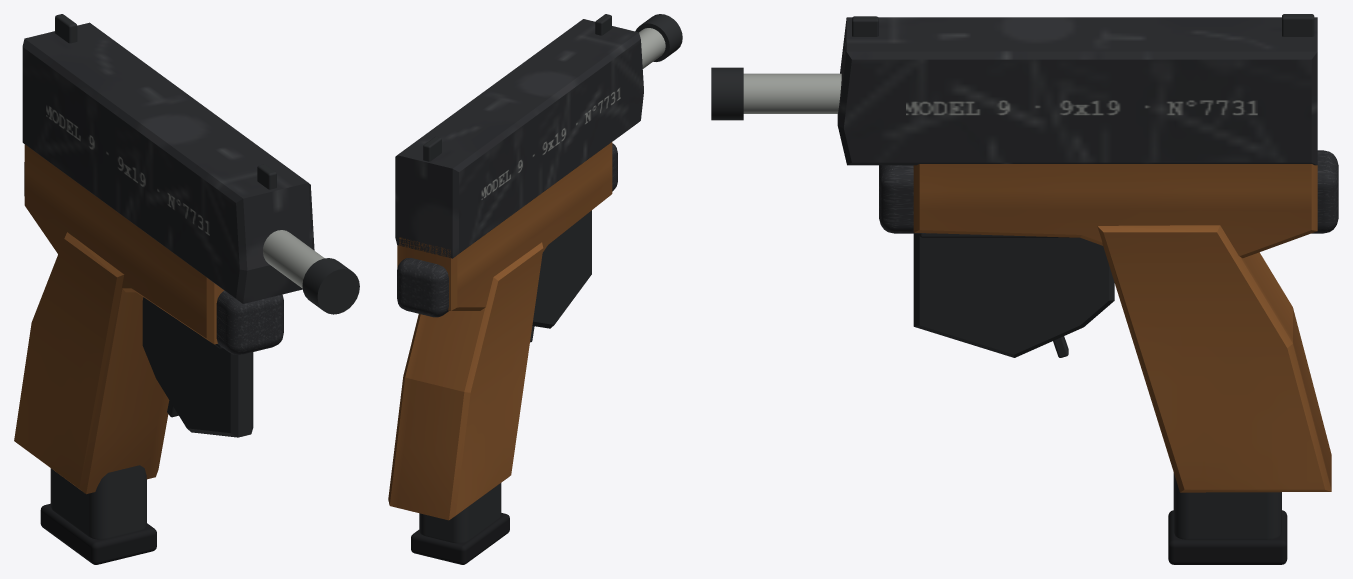
The model's file is 02-pistolet-9-mm.glb.
The picture shows the model from 3 angles, left to right: view 1: azimuth 30°, elevation 25°; view 2: azimuth 150°, elevation 25°; view 3: azimuth 270°, elevation 25°; orthographic projection. The views are drawn at different scales.
Bounding box in the file's own units: 0.0364 × 0.218 × 0.232.
7 materials, 3 textured.
